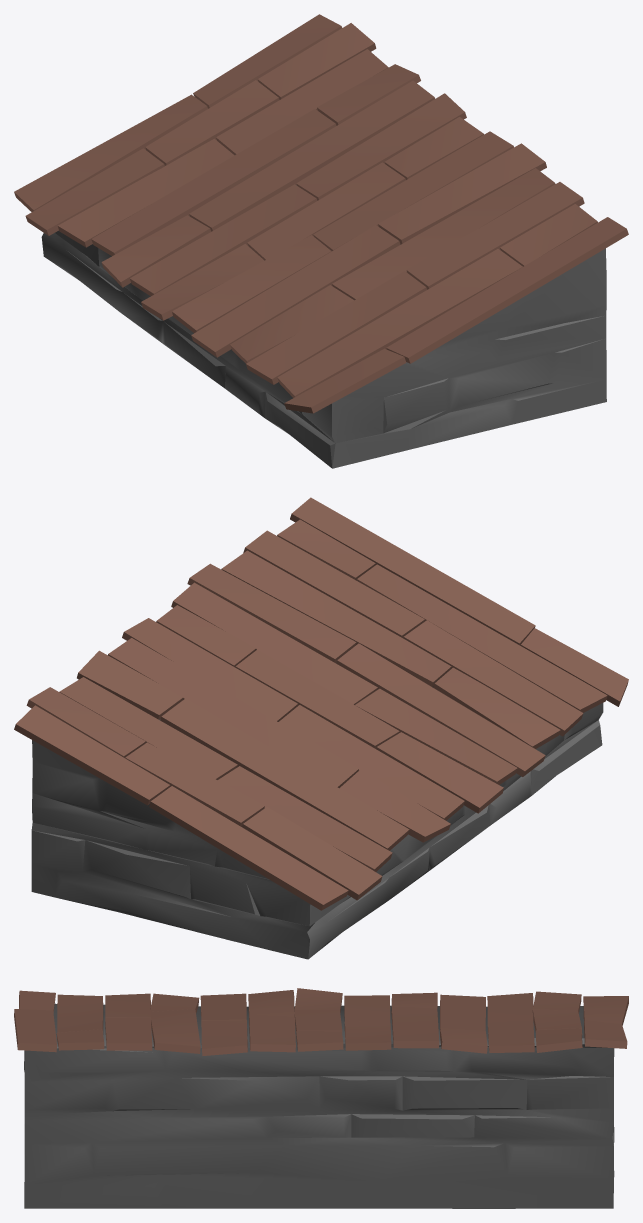
The model's file is roof_building_10.FBX.
3 views of the same model, one above another, from view 1: azimuth 30°, elevation 25°; view 2: azimuth 150°, elevation 25°; view 3: azimuth 270°, elevation 25° (orthographic).
Visible parts, largest first — view 1: roof_building_10_LOD0; view 2: roof_building_10_LOD0; view 3: roof_building_10_LOD0.
Boxes of the visible parts, left/top/right/bottom form: roof_building_10_LOD0: left=14, top=14, right=628, bottom=468; roof_building_10_LOD0: left=14, top=497, right=628, bottom=959; roof_building_10_LOD0: left=14, top=988, right=628, bottom=1208.
Size of what is drawn, in the model's own units: 270 by 132 by 417.
